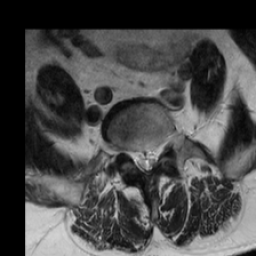CCS_normal: (141, 142, 150, 180)
LFS_normal: (158, 130, 168, 161)
LLS_normal: (150, 140, 158, 175)
RFS_normal: (122, 138, 131, 166)
RLS_normal: (131, 142, 141, 175)
